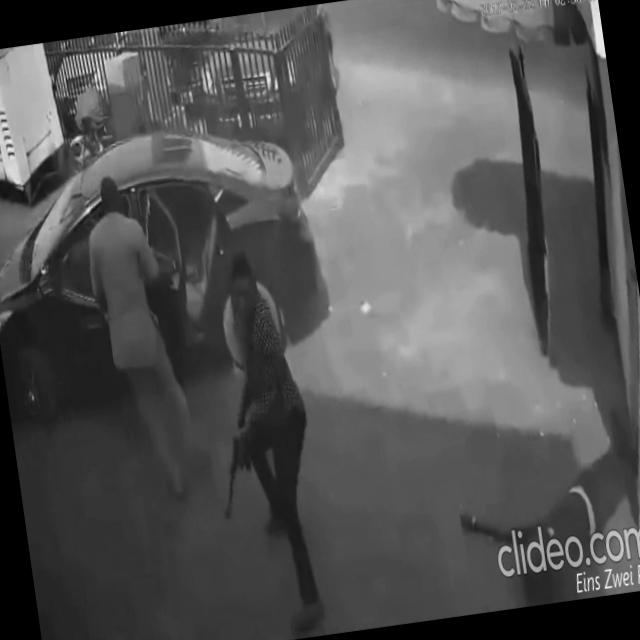gun: (203, 364, 270, 524)
person: (78, 165, 220, 506), (447, 407, 640, 615)
person with a gun: (188, 243, 339, 640)
